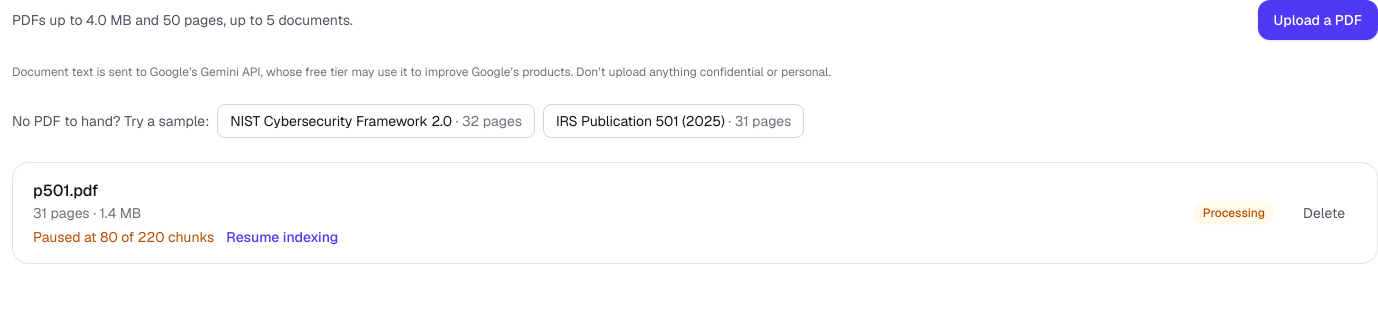
Scenario: DocumentLibrary — indexing large documents › stops with the server's message when indexing fails, and shows the failed status
Click the button "Resume indexing" at [282, 237], box [226,227,338,247]
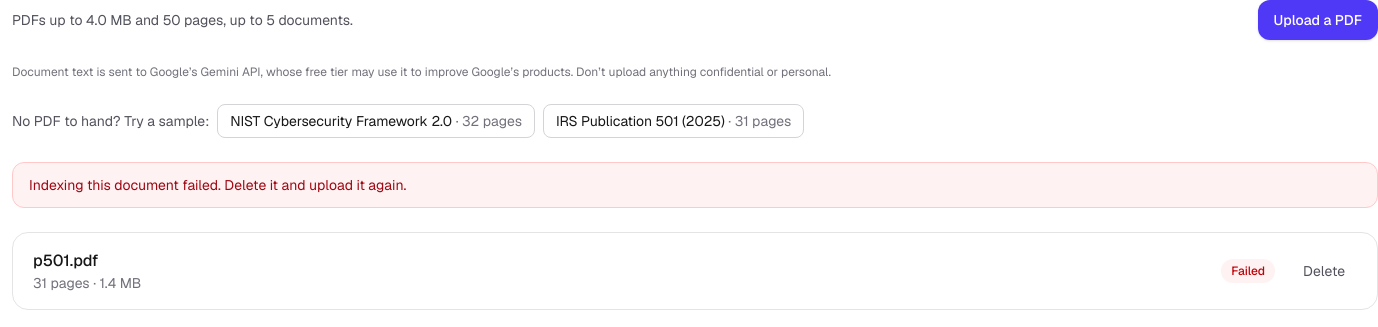
Expected: the message reads "Indexing this document failed. Delete it and upload it again.", [29,176,406,194]
Expected: the text "Failed" is shown, [1221,259,1275,283]
